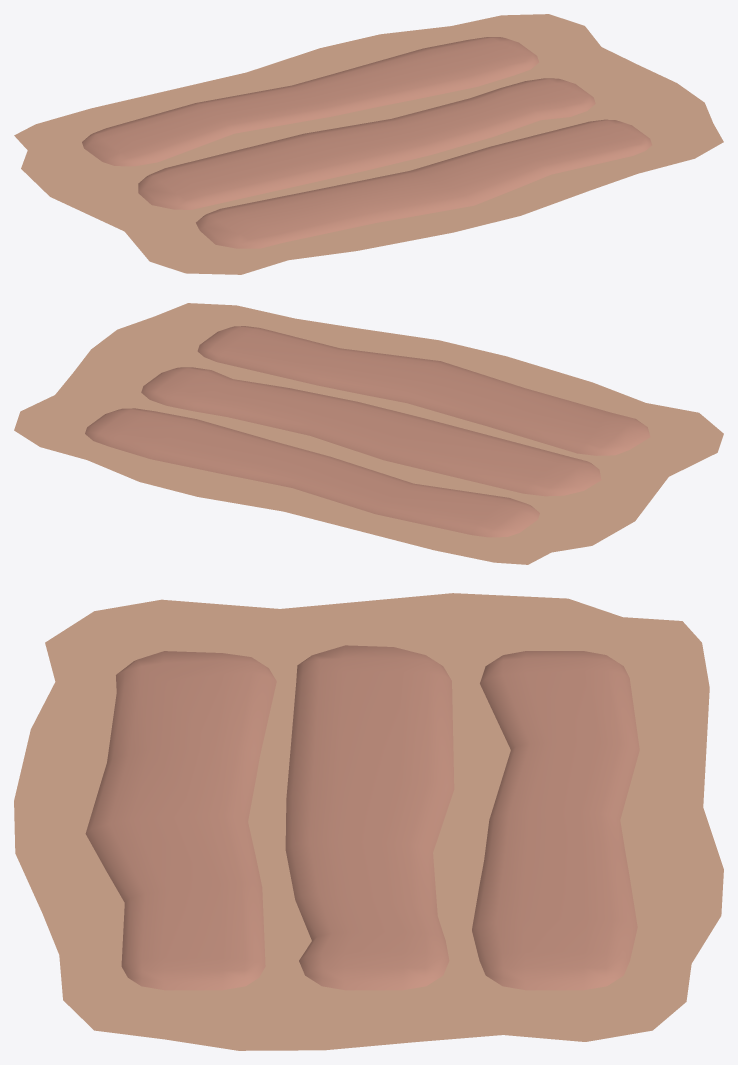
Rendered from SeedBed_02.fbx.
3 views of the same model, one above another, from view 1: azimuth 30°, elevation 25°; view 2: azimuth 150°, elevation 25°; view 3: azimuth 270°, elevation 25° (orthographic). The views are drawn at different scales.
Parts seen in each view (by area): view 1: SeedBed_02; view 2: SeedBed_02; view 3: SeedBed_02.
Boxes of the visible parts, <box> form: SeedBed_02: <box>14,14,723,274</box>; SeedBed_02: <box>14,303,723,564</box>; SeedBed_02: <box>14,593,723,1050</box>.
Bounding box in the file's own units: 17.75 × 0.2273 × 11.64.
